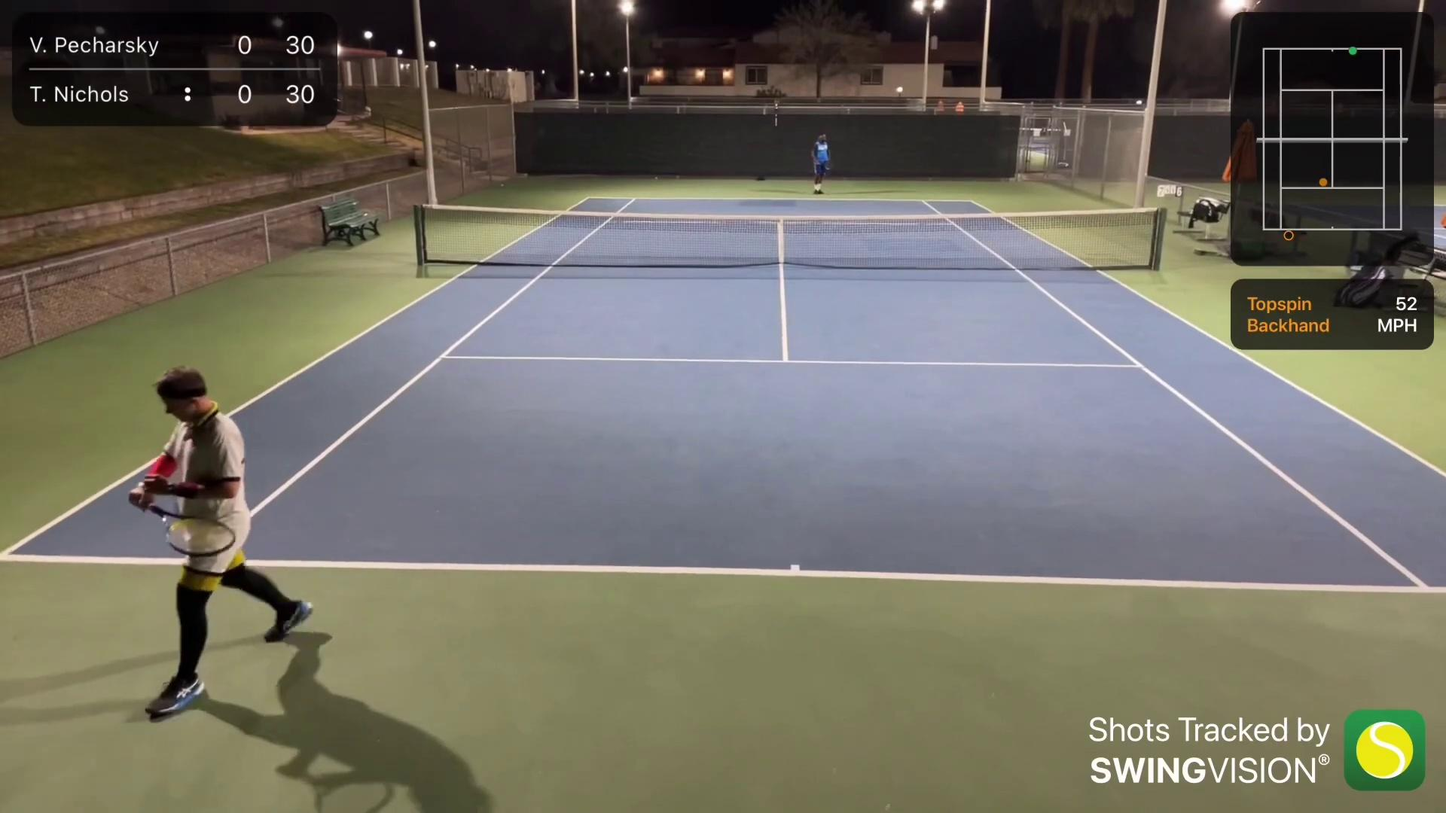ball: (500, 183, 504, 188), (655, 175, 658, 180)
